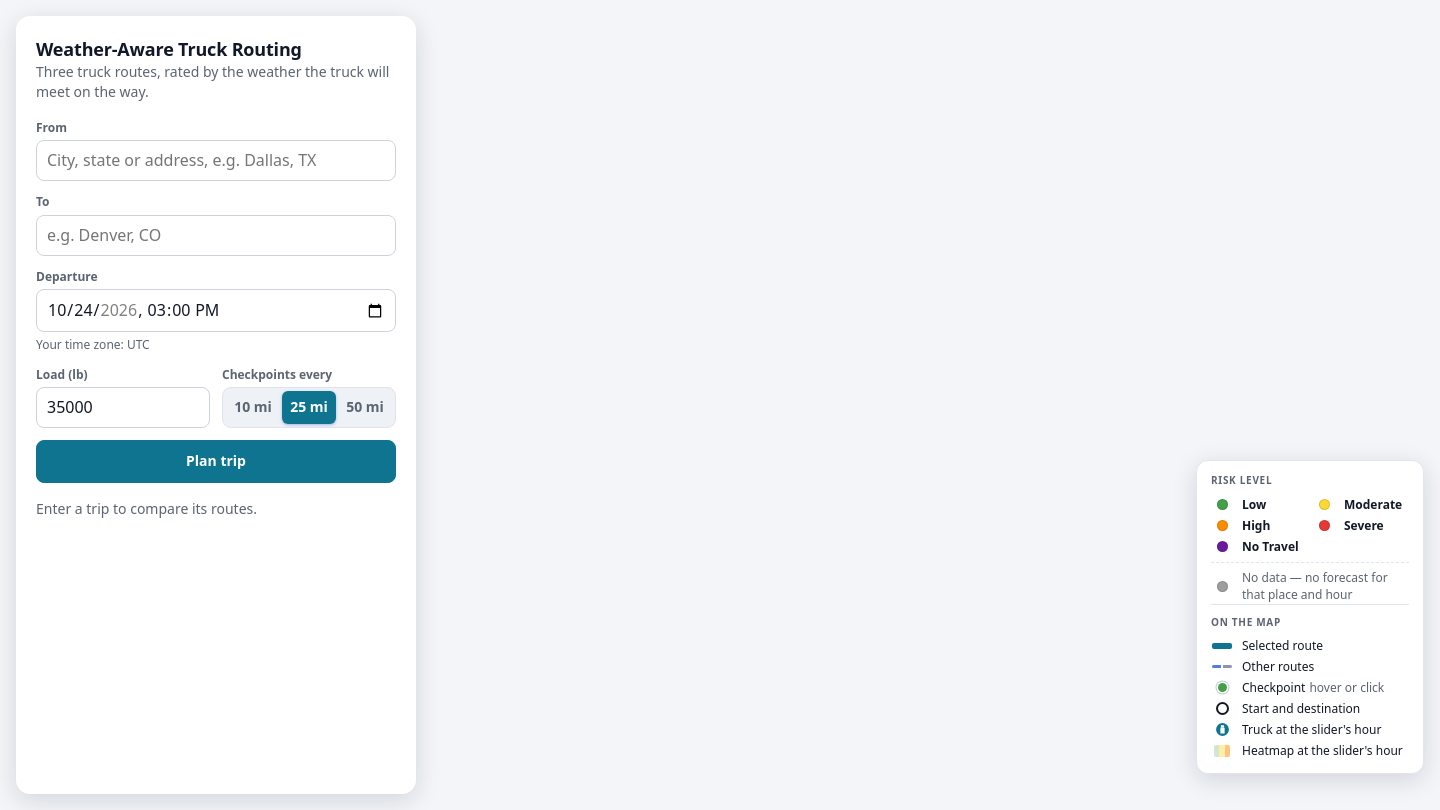
Test case: App › opens the form again on the server's error, at the field it is about
In the dropdown labelled "From": (216, 161) [36,140,396,181], type "Dallas, TX"
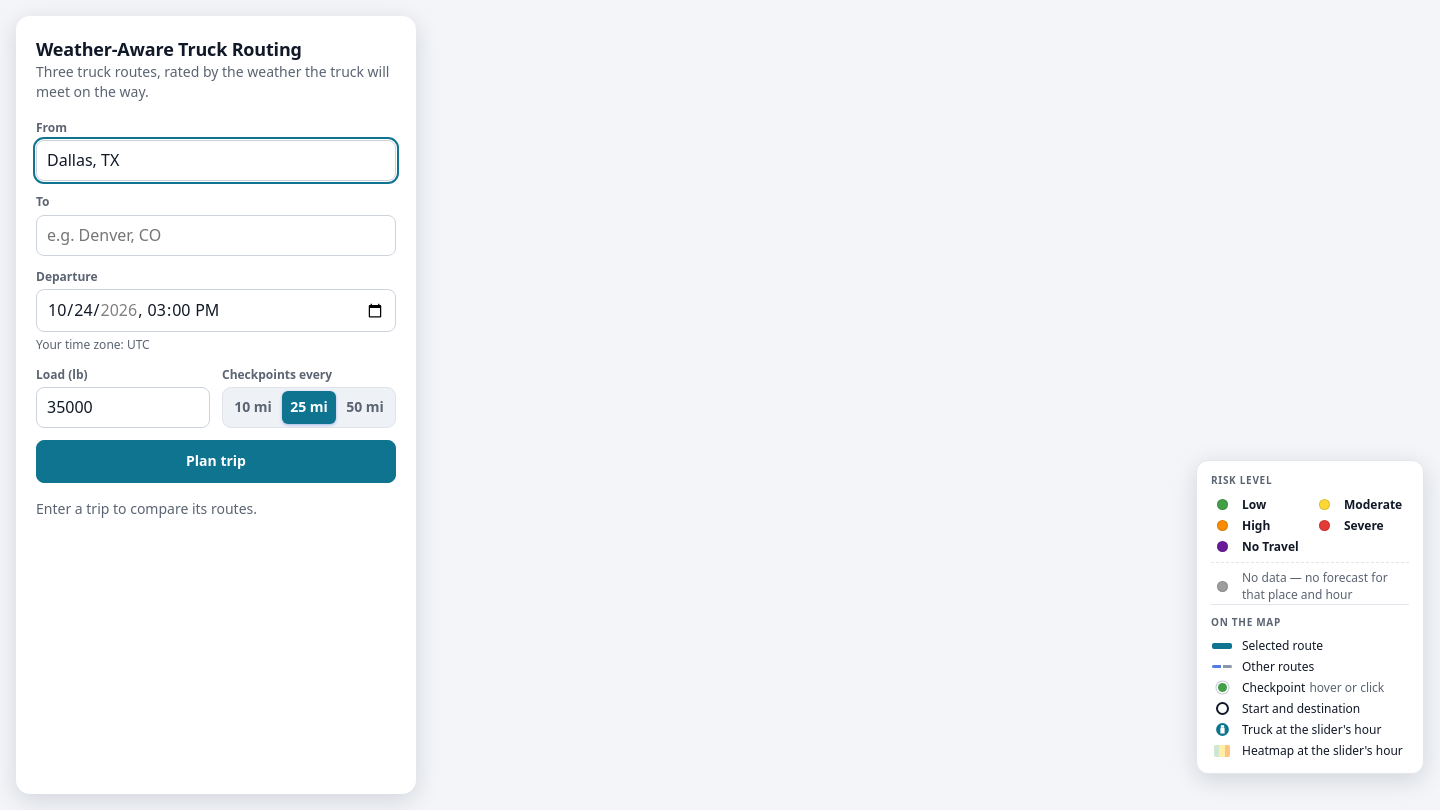
In the dropdown labelled "To": (216, 235) [36,215,396,256], type "Denver, CO"
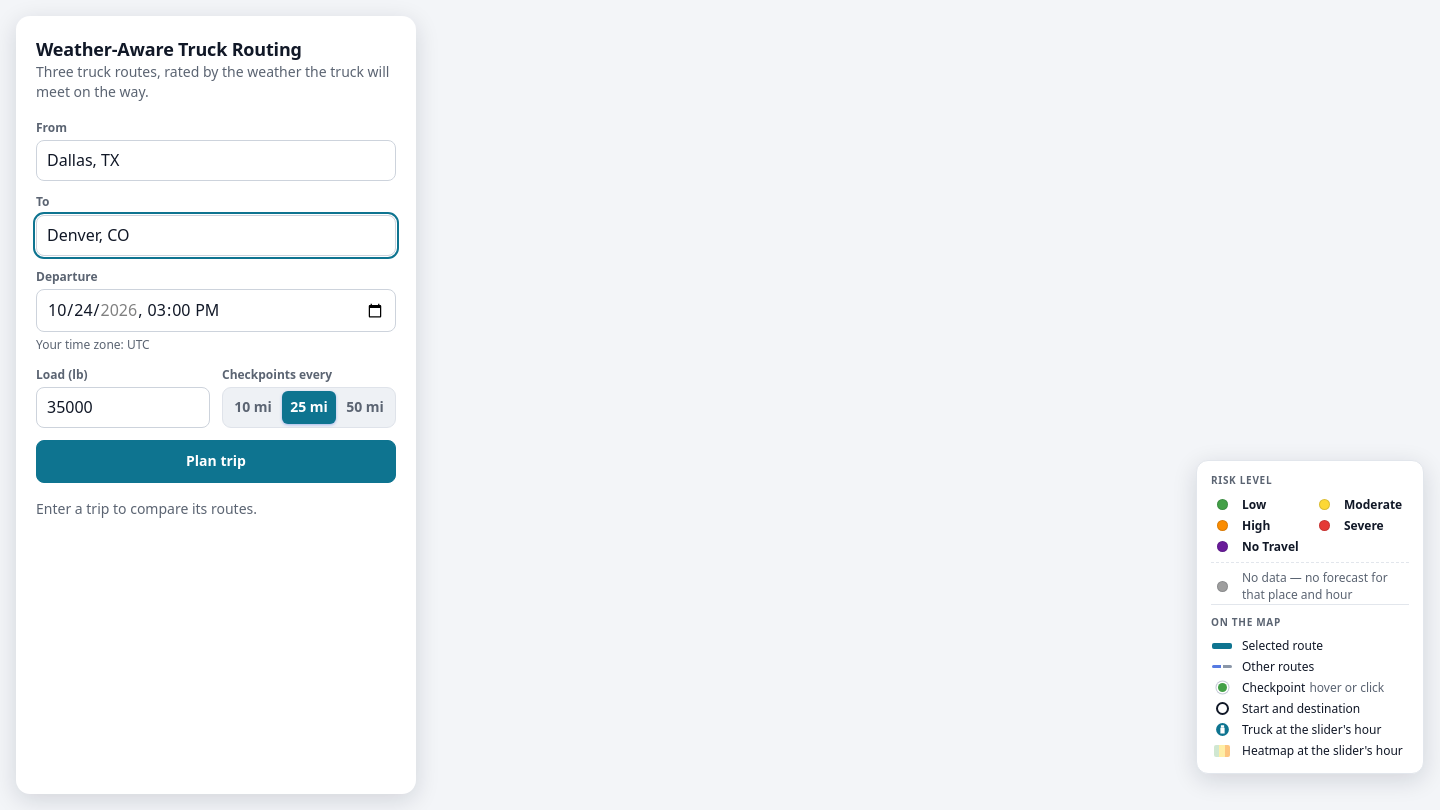
Click the button "Plan trip": (216, 462) [36,440,396,483]
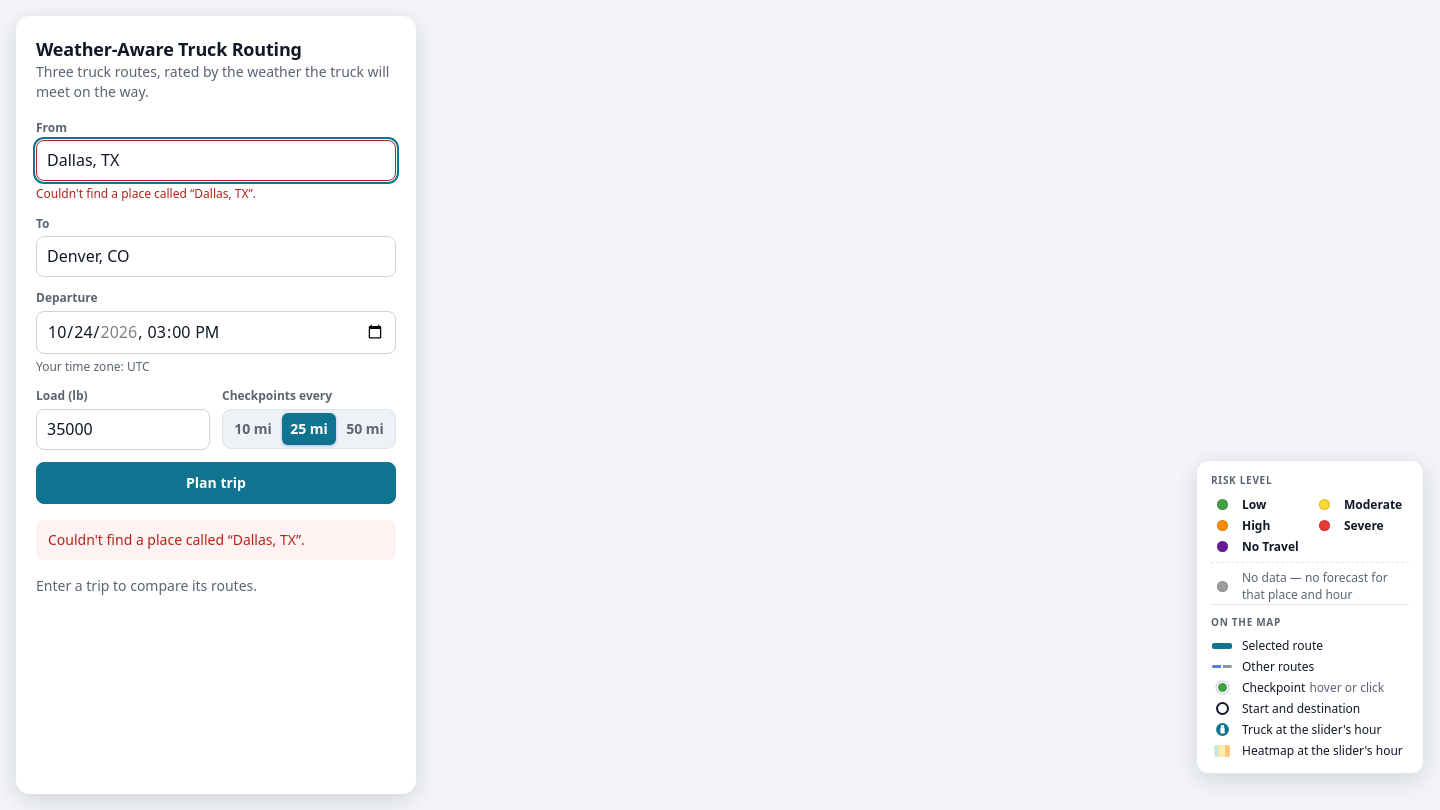
Check: the message reads "Couldn't find a place called “Dallas, TX”.", box [48,530,305,549]
